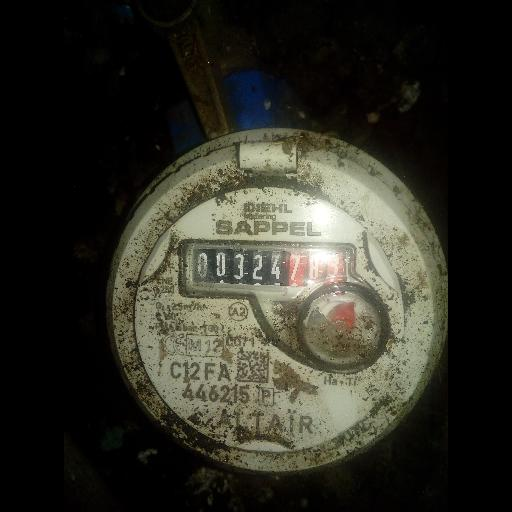0: (212, 250, 233, 285), (193, 248, 213, 283)
2: (250, 250, 270, 285)
3: (232, 249, 251, 285), (327, 249, 344, 285)
4: (269, 251, 286, 286)
7: (286, 252, 307, 287)
8: (307, 252, 326, 287)
border_water_meter_number: (178, 239, 357, 302)
